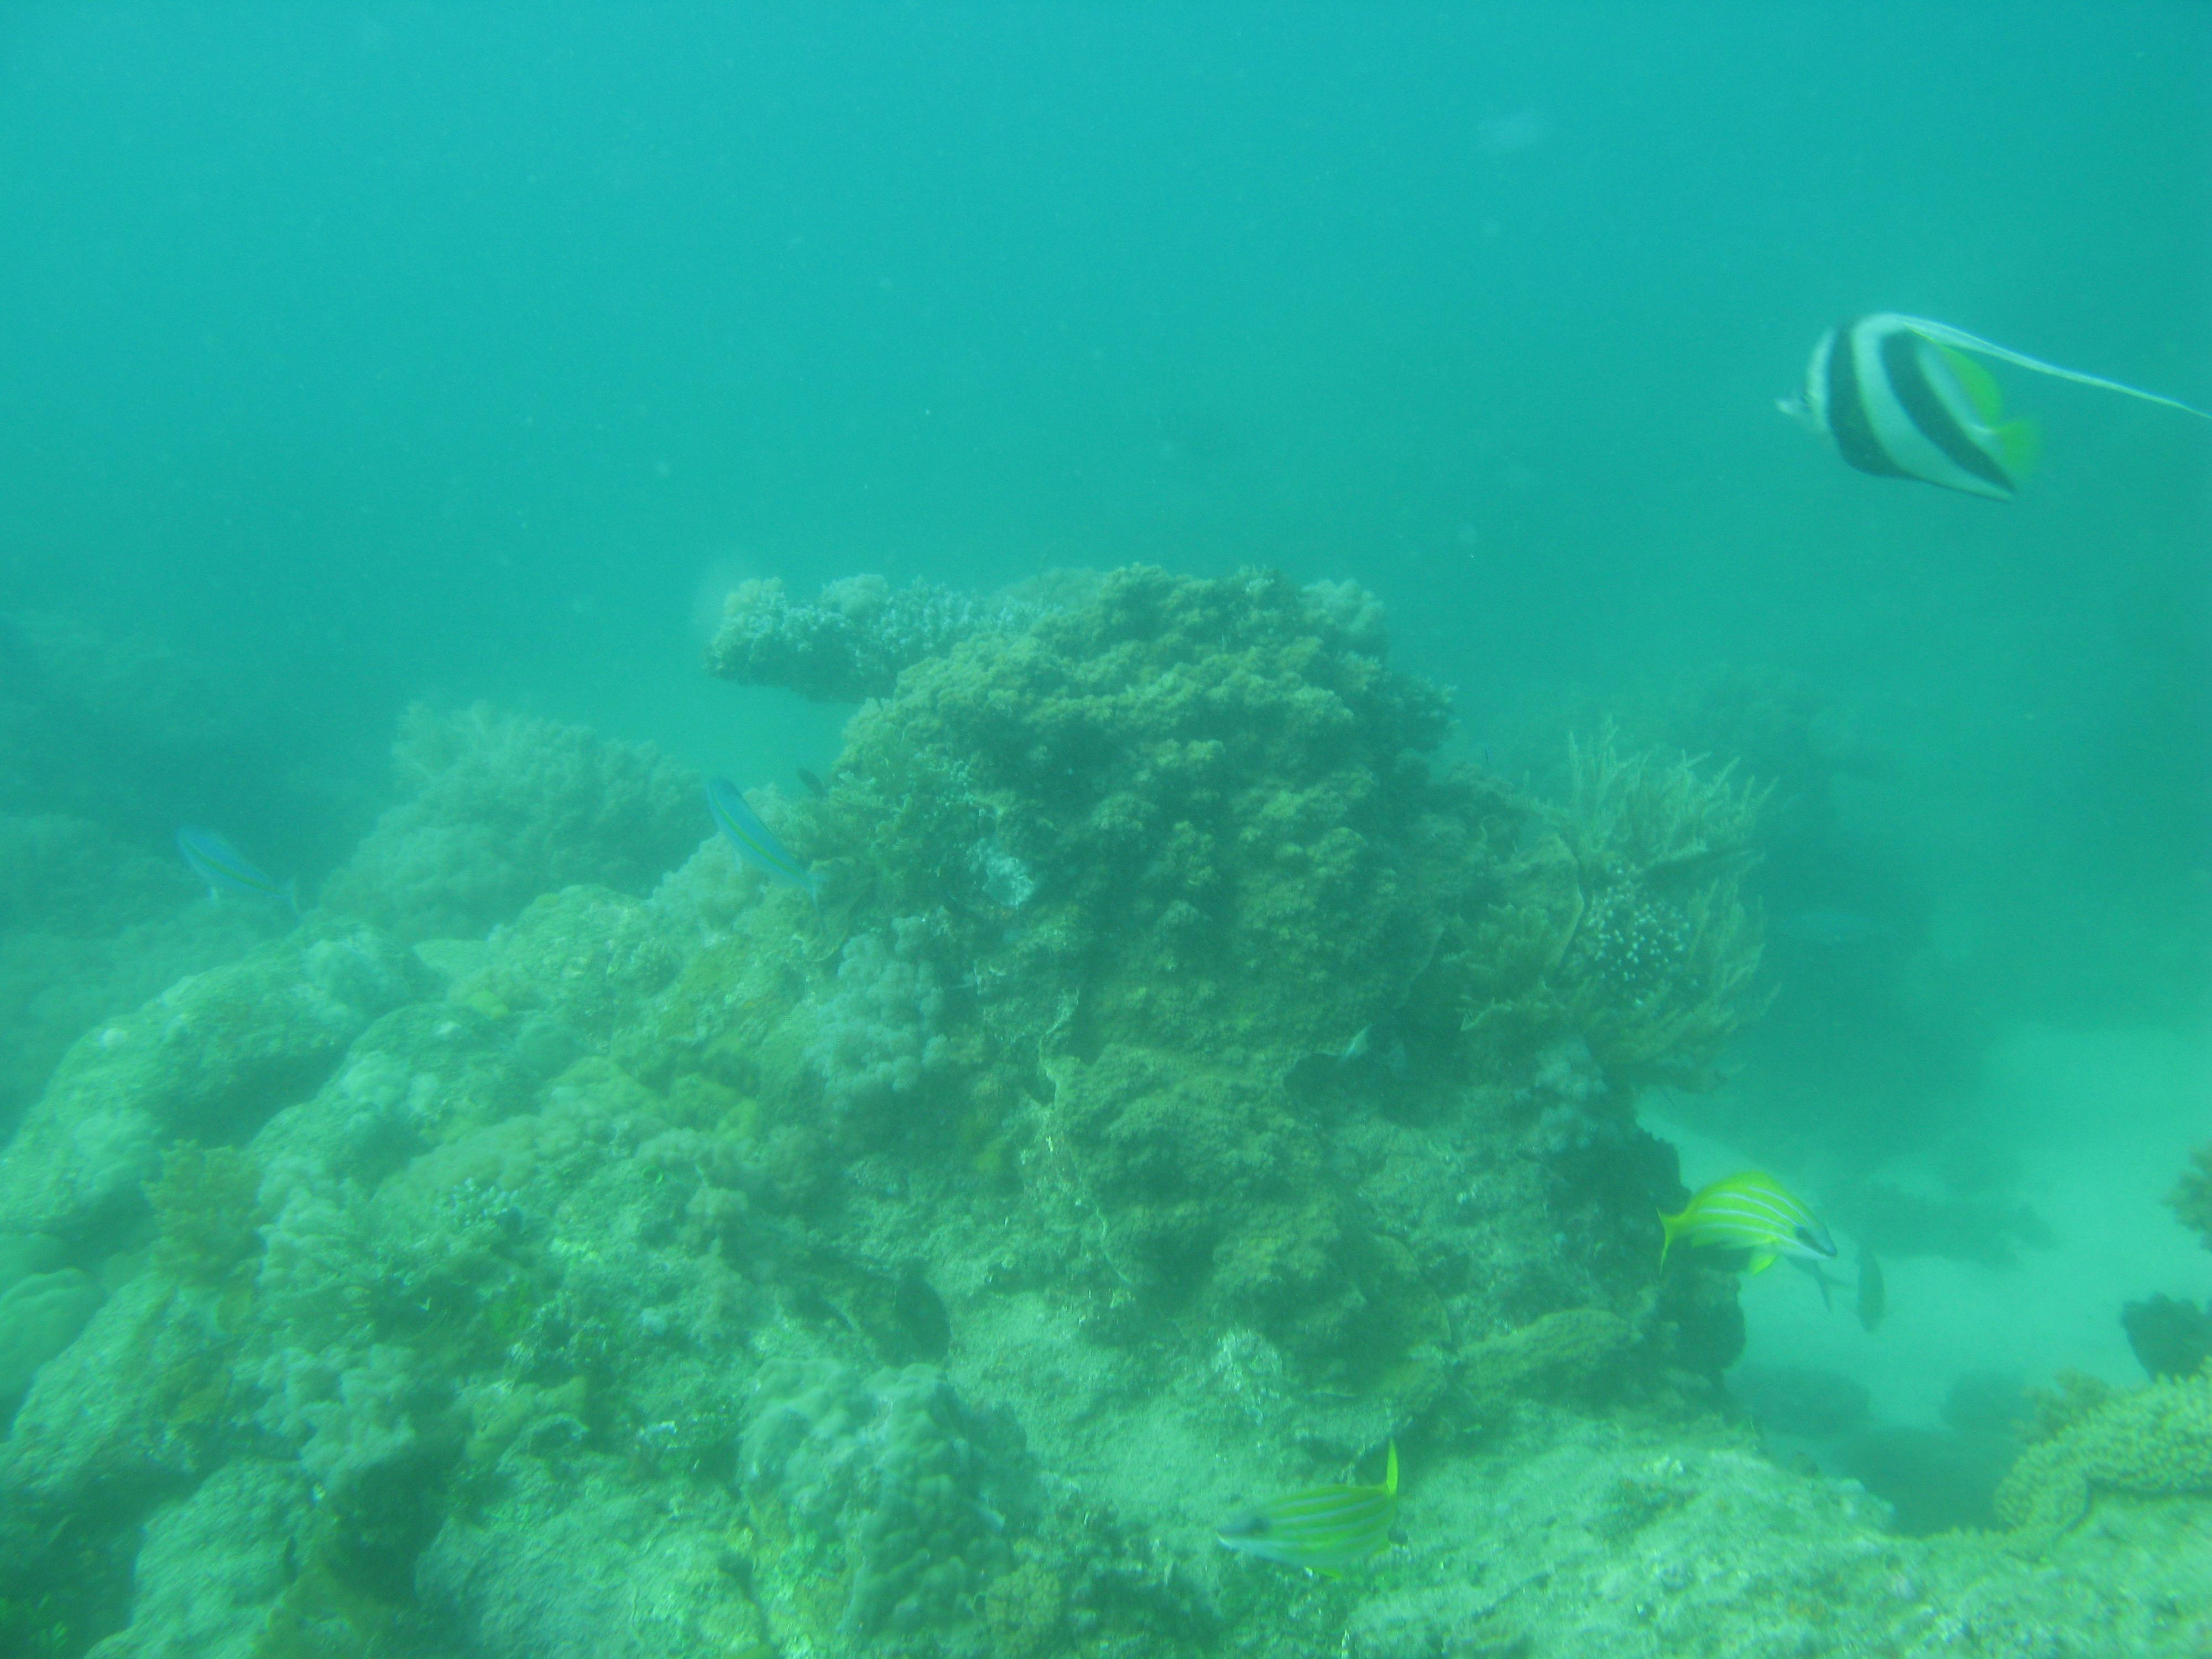Heniochus acuminatus: (1756, 272, 2212, 551)
